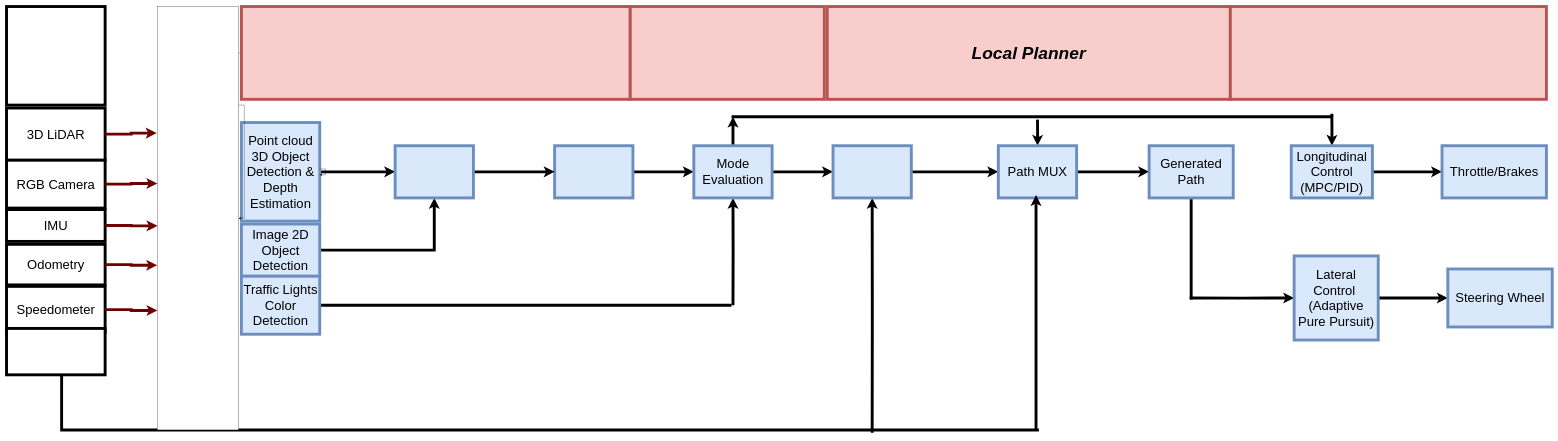
Some shapes in this 1558 by 441 pixel diagram are drawn without their labels. The shapes that lost their labels are listed below. From the top down, each one's box as (x1, y1, x2, y2) in pixels, then its label:
(5, 5, 106, 106): Inputs
(240, 5, 631, 101): Perception
(628, 5, 826, 101): Behavior Planner
(1229, 5, 1548, 101): Controller
(394, 144, 475, 199): Camera-LiDAR Fusion
(553, 144, 634, 199): Multi-Object Tracking
(831, 144, 913, 199): Frenet Planner
(5, 327, 106, 376): Global Path
